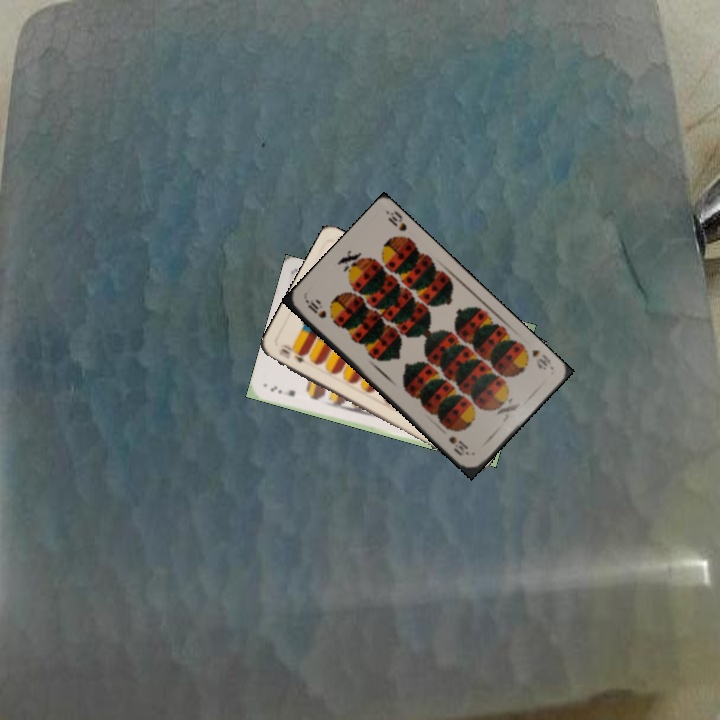E10: (274, 340, 308, 366)
E7: (266, 381, 298, 399)
S10: (528, 345, 553, 373), (302, 296, 329, 321)
